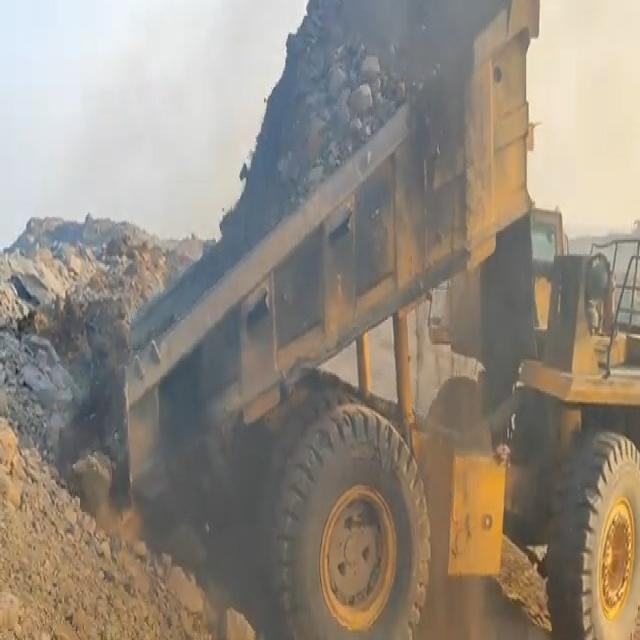dump_truck: (119, 1, 640, 640)
